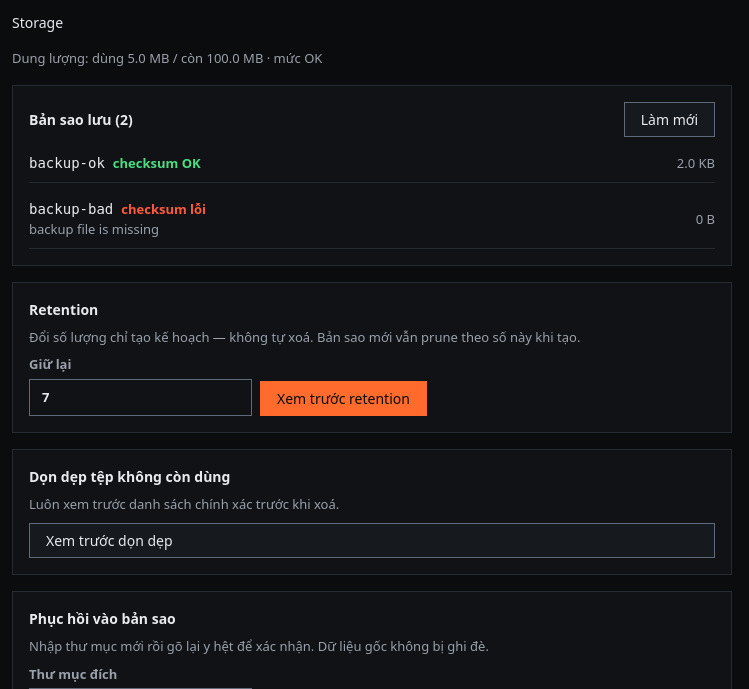
StorageSettings (U02/U10) › creates a retention plan without deleting anything
The width and height of the screenshot is (749, 689).
Expected: the text "backup-ok" is shown, [29, 155, 105, 171]
Replace the text in the number field named "Số bản sao giữ lại" with "1": (140, 397) [29, 378, 252, 416]
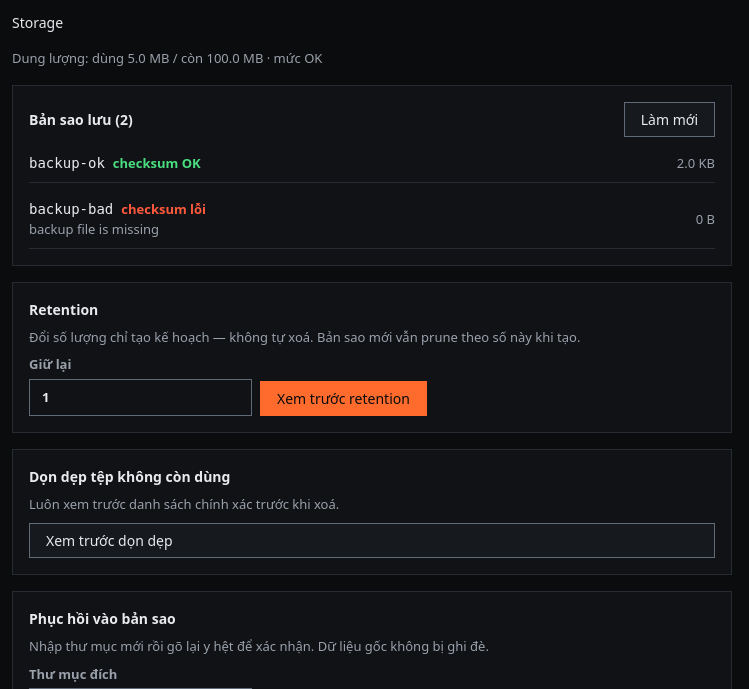
Click the button "Xem trước retention": (343, 398) [260, 380, 427, 416]
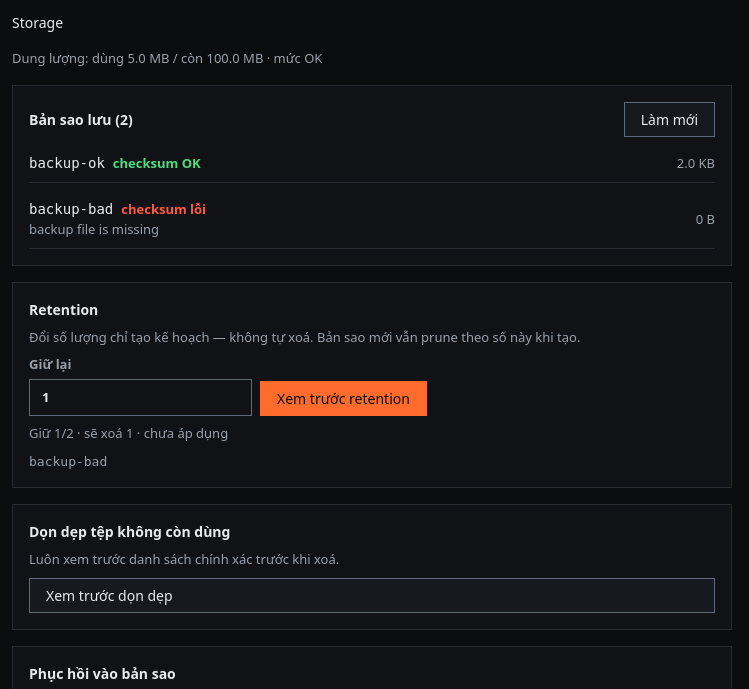
Expected: the element named "Kế hoạch retention" shows "Giữ 1/2", [29, 424, 228, 468]
Expected: the element named "Kế hoạch retention" shows "sẽ xoá 1", [29, 424, 228, 468]
Expected: the element named "Kế hoạch retention" shows "chưa áp dụng", [134, 424, 228, 442]
